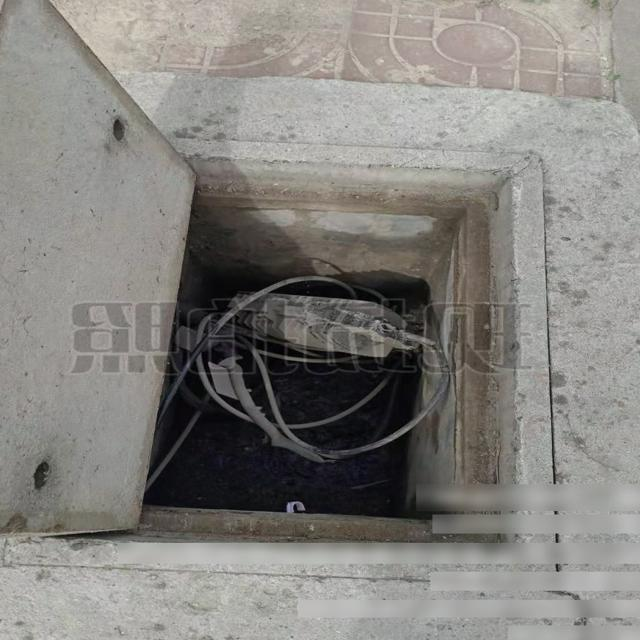uncovered: (0, 0, 551, 581)
